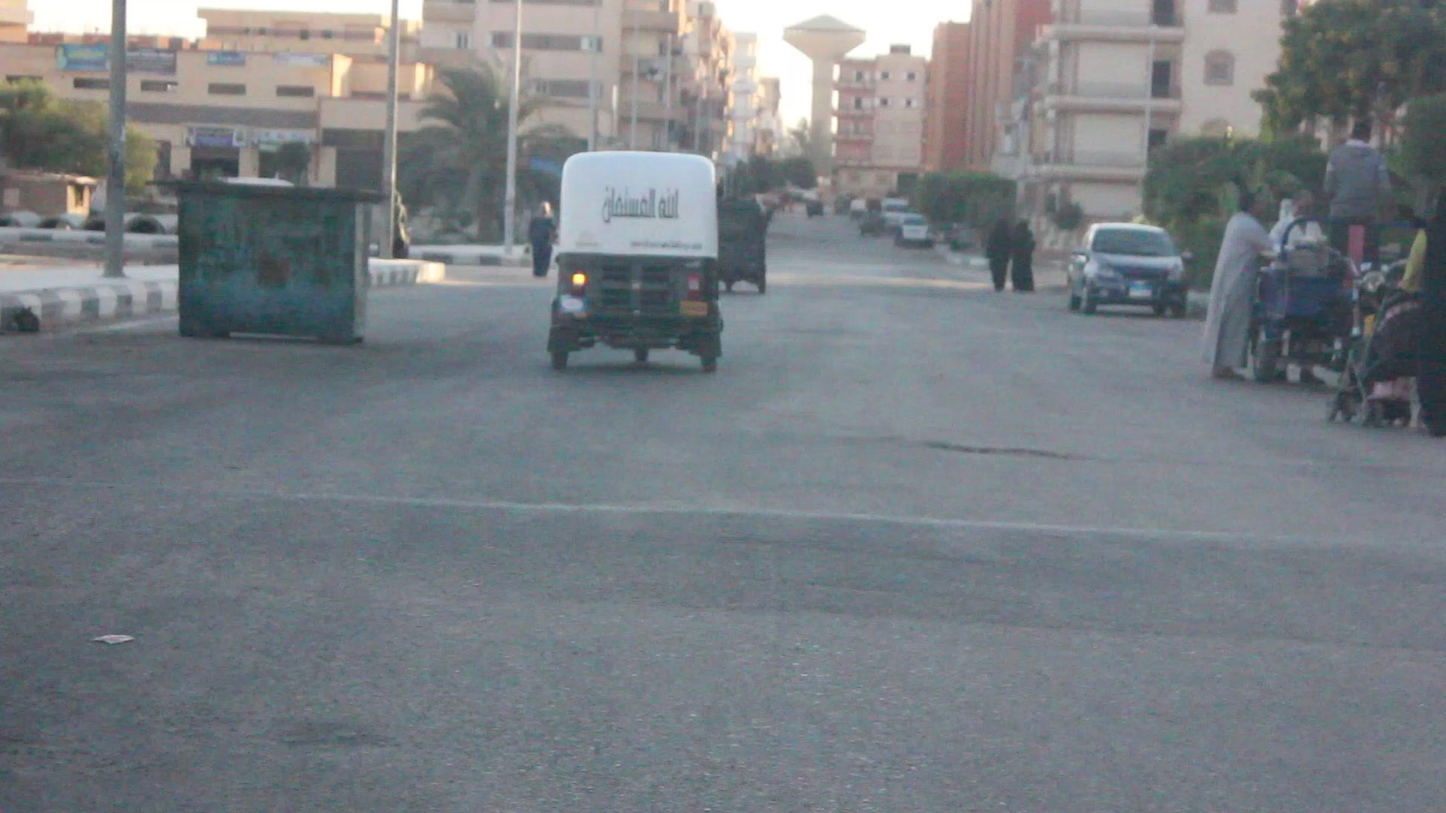Bump: (0, 474, 1446, 659)
Pothole: (913, 431, 1122, 482)
